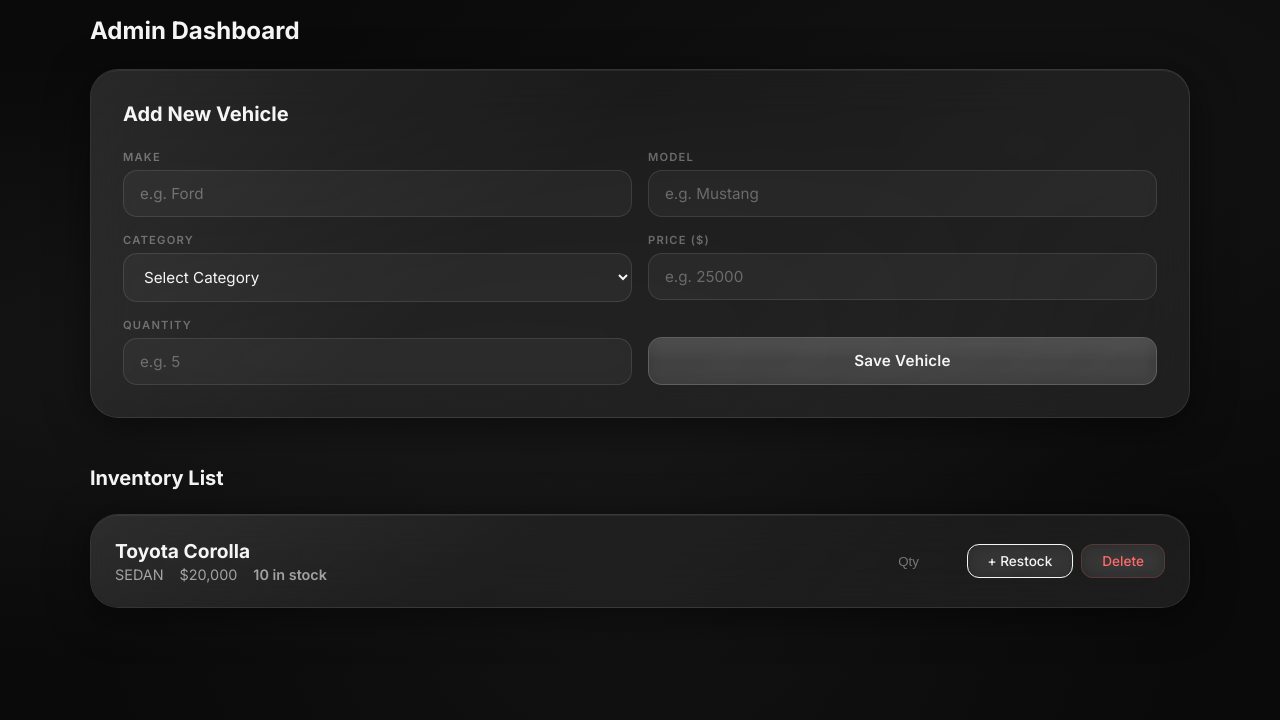
Test case: AdminPage › allows an admin to delete a vehicle
Expected: the heading "Toyota Corolla" is shown, 115,539 -> 250,563
# Click the delete button
Click the button "Delete" at (1123, 561), box 1081,544 -> 1165,578
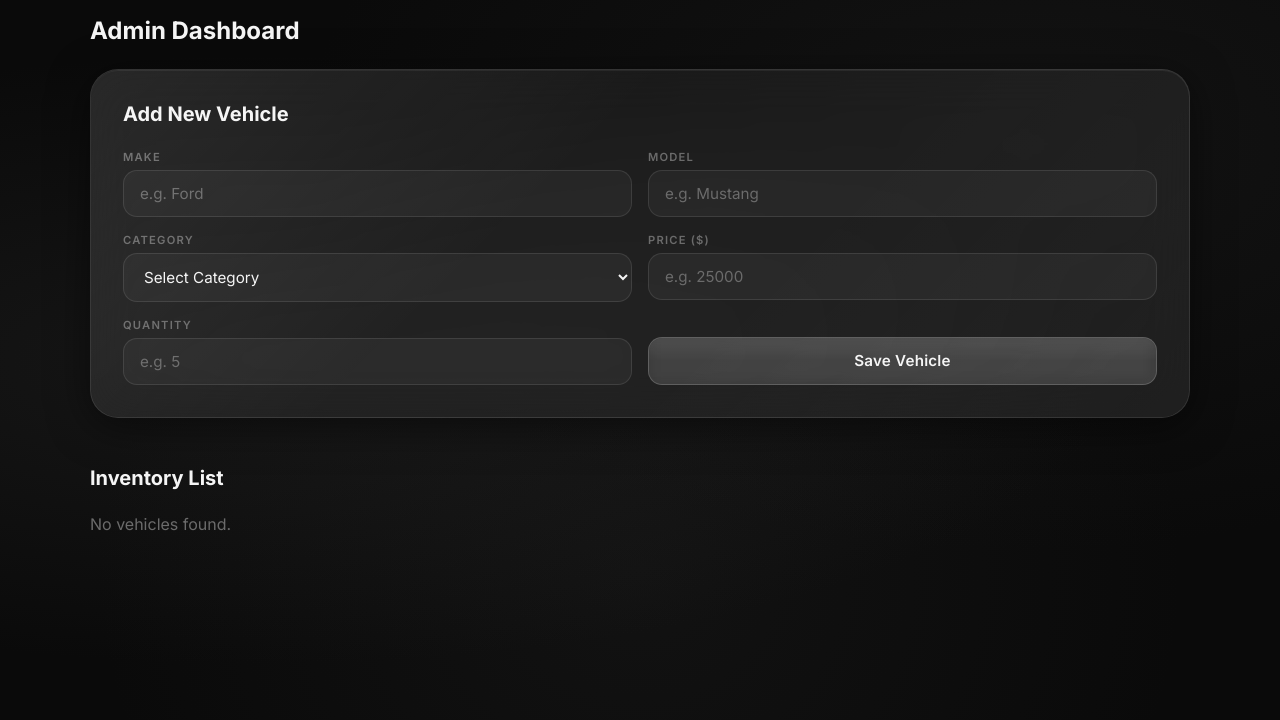
Now the heading "Toyota Corolla" is gone
